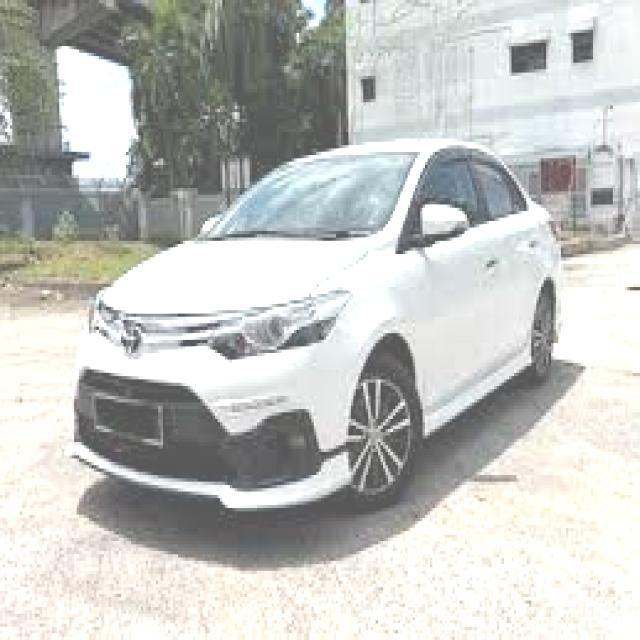ToyotaVios: (68, 135, 563, 517)
